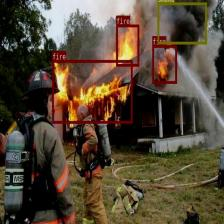fire: (52, 60, 132, 123), (116, 24, 139, 66), (152, 45, 177, 83)
smoke: (157, 2, 206, 44)
